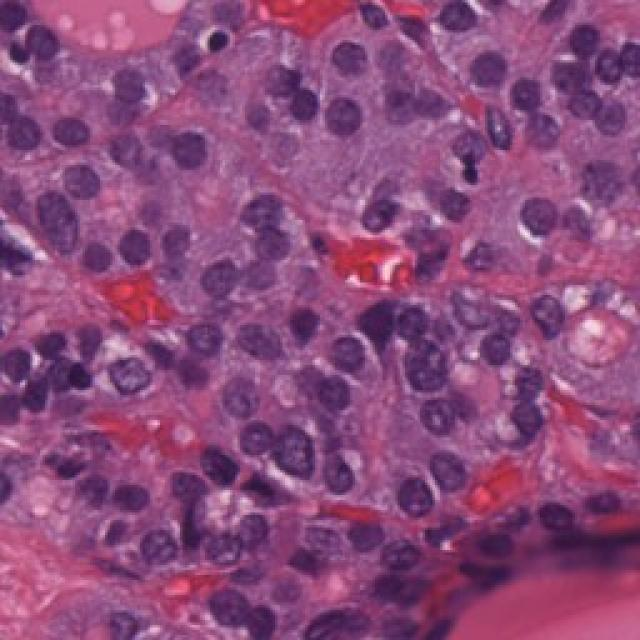abnormal: (418, 255, 525, 347), (91, 32, 168, 148), (491, 176, 587, 265), (18, 170, 100, 273), (249, 401, 327, 506), (118, 497, 197, 593), (147, 112, 230, 200), (179, 224, 255, 319), (314, 70, 388, 161), (453, 29, 524, 123), (179, 564, 264, 640), (214, 358, 286, 430), (98, 331, 162, 410), (406, 387, 474, 451)
